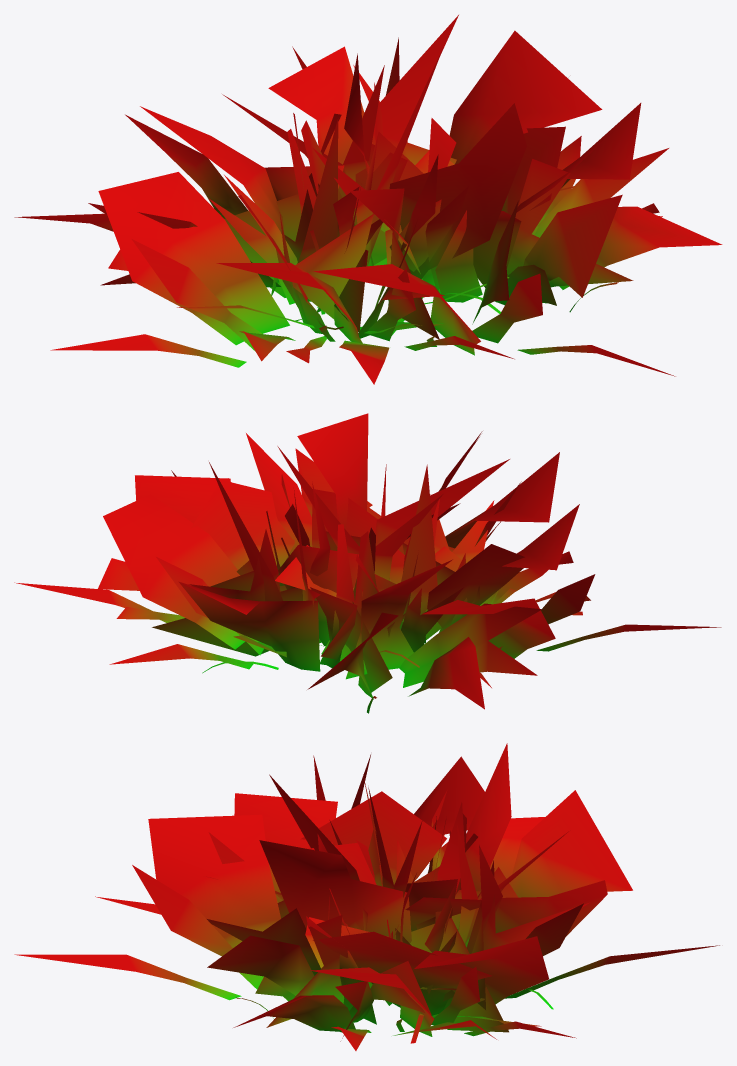
Rendered from Tundra Grass_LOD4_Var3_wk2oaeyqx.fbx.
The picture shows the model from 3 angles, top to bottom: view 1: azimuth 30°, elevation 25°; view 2: azimuth 150°, elevation 25°; view 3: azimuth 270°, elevation 25°; orthographic projection. The views are drawn at different scales.
Parts seen in each view (by area): view 1: _u2i3_Var3_LOD4; view 2: _u2i3_Var3_LOD4; view 3: _u2i3_Var3_LOD4.
Part boxes in pixels (x1,y1,x2,y2): _u2i3_Var3_LOD4: (14, 15, 722, 384); _u2i3_Var3_LOD4: (14, 413, 721, 713); _u2i3_Var3_LOD4: (14, 743, 719, 1050).
Size of the model in its own units: 58.11 by 19.67 by 61.37.
